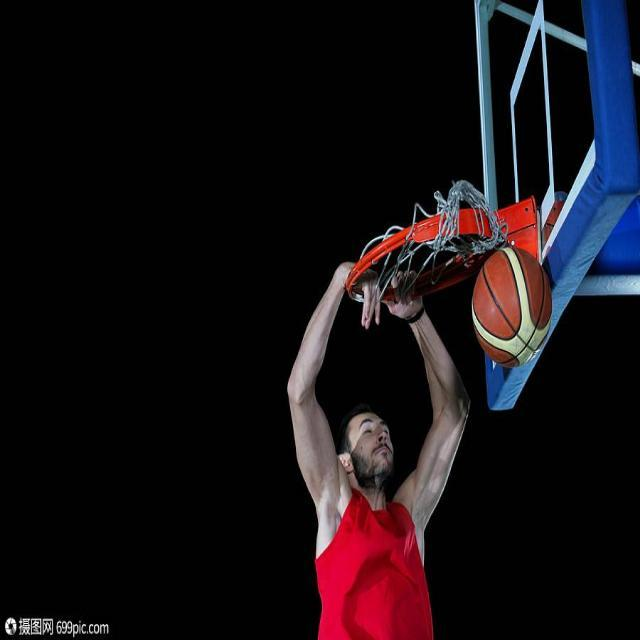rim: (472, 253, 553, 367)
